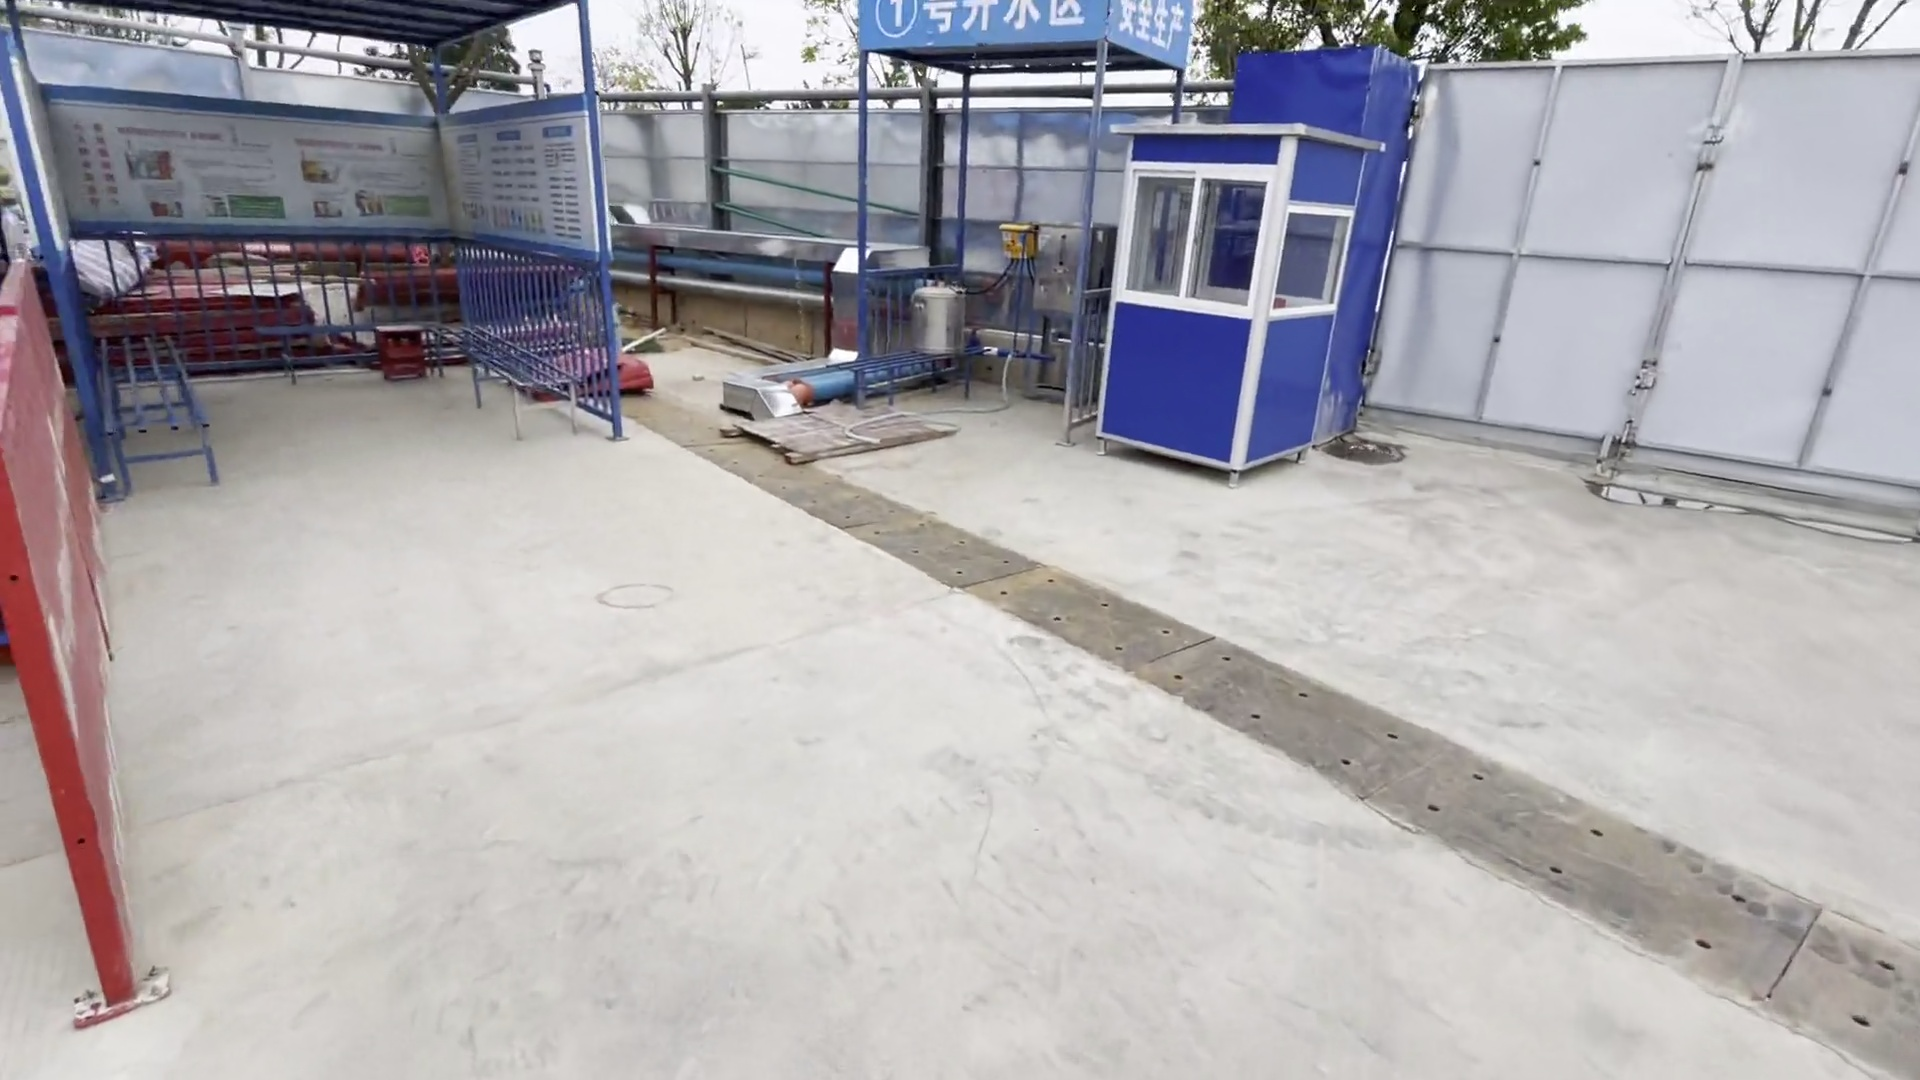ebox: (996, 219, 1034, 260)
slogan: (1120, 1, 1188, 50)
